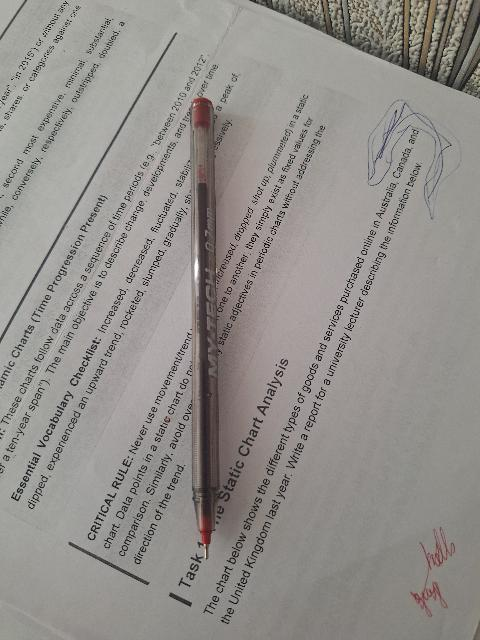writing_tool: (187, 95, 224, 560)
